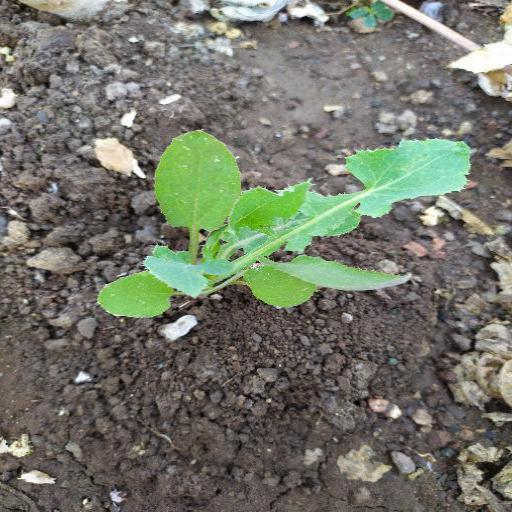weed: (93, 110, 472, 340)
